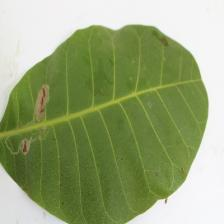leaf miner: (0, 23, 209, 223)
